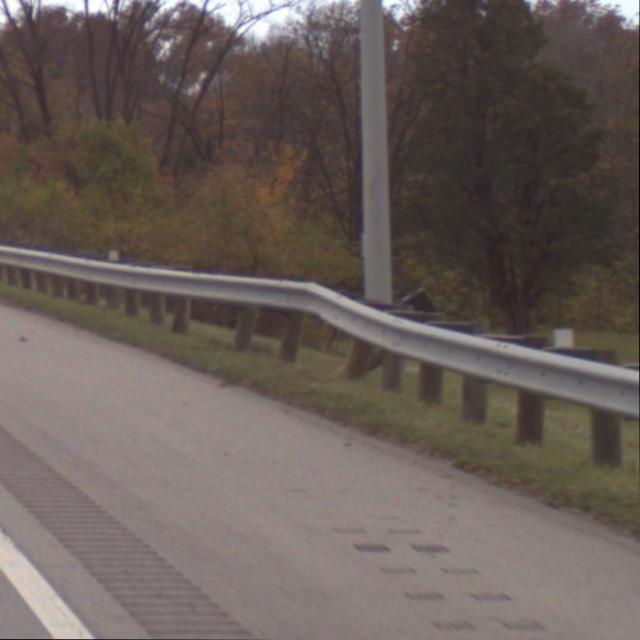Guard rail: (0, 239, 640, 476)
